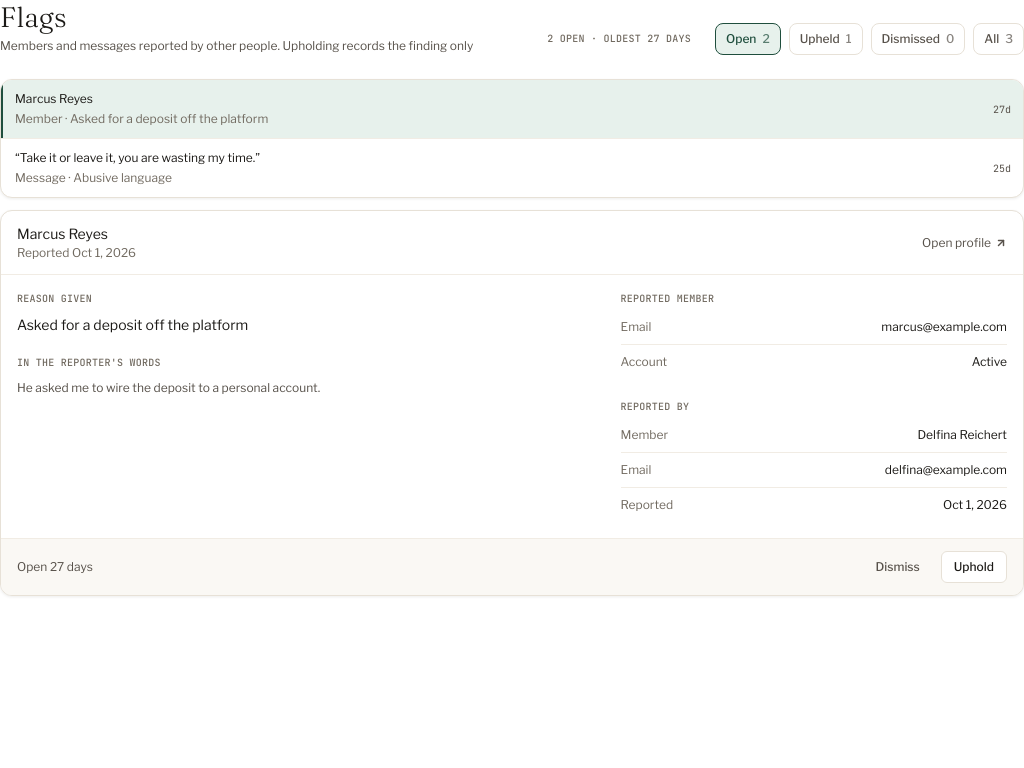
Test: AdminFlagsConsole · deciding › asks for confirmation instead of deciding on the first click
Click the button "Uphold" at (974,567), box x1=941 y1=551 x2=1007 y2=583
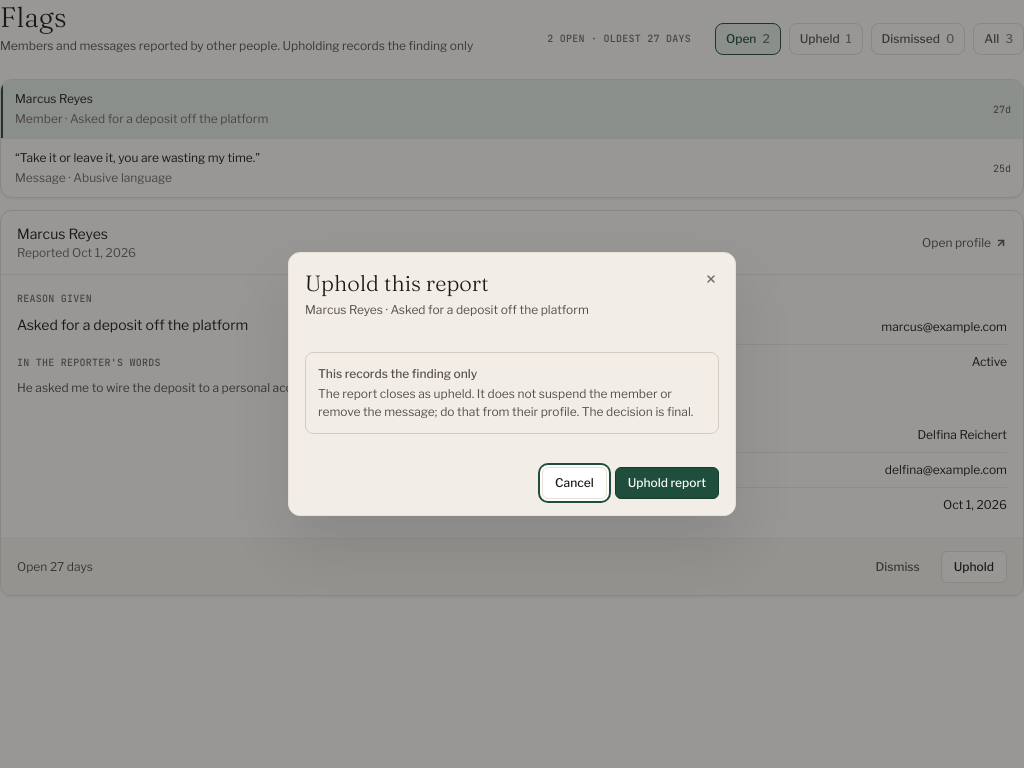
Expected: the dialog "Uphold this report" shows "Marcus Reyes", x1=305 y1=302 x2=589 y2=317
